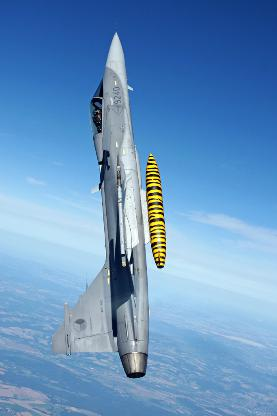JAS39: (52, 18, 165, 378)
